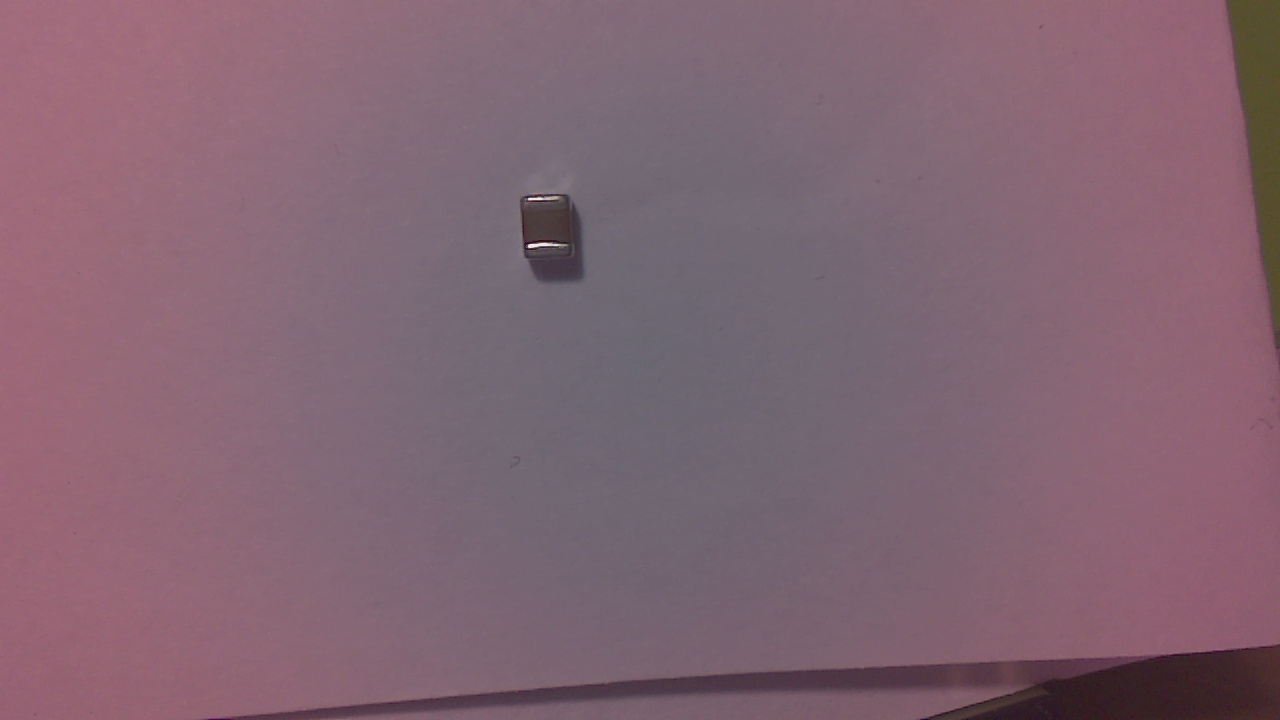Condensator: (523, 196, 582, 266)
